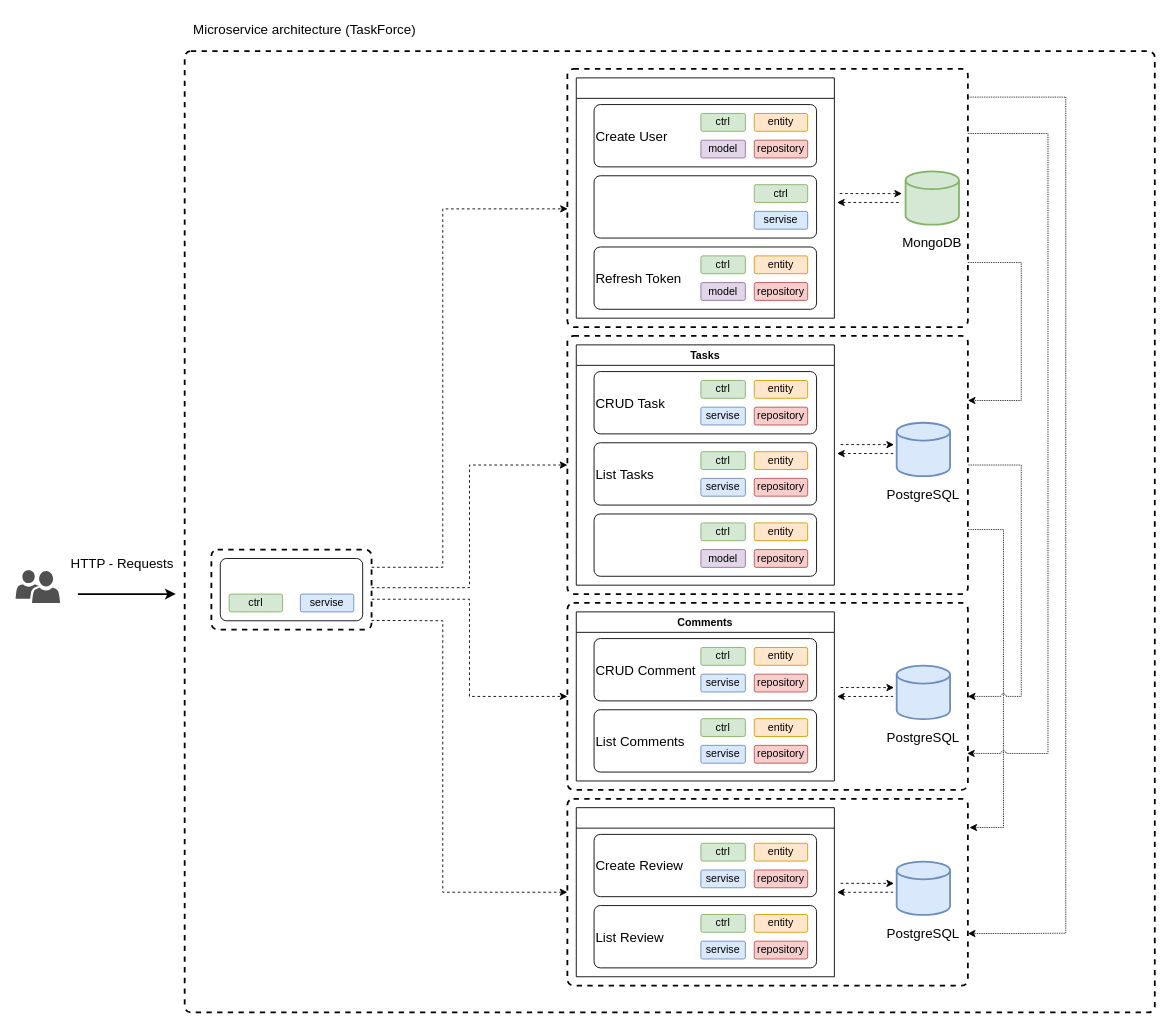
Image size: 1170x1028. Some labels were removed from this diagram. The shapes that lost their labels are listed below. From the top down, each one's box as (x1, y1, x2, y2) in pixels, then its label:
(575, 77, 834, 318): Users
(593, 175, 817, 238): Authentication
(593, 513, 817, 576): My Tasks
(219, 558, 363, 621): API GATEWAY
(575, 807, 834, 977): Reviews
